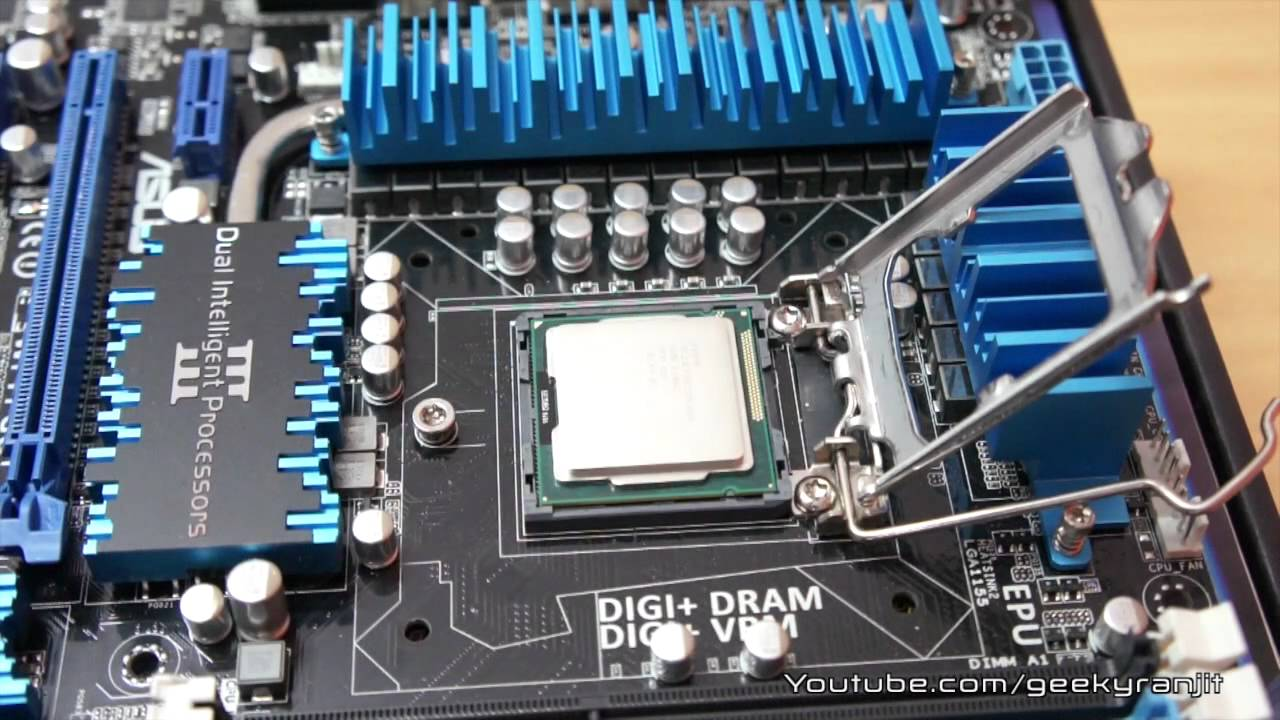processor: (530, 305, 779, 508)
